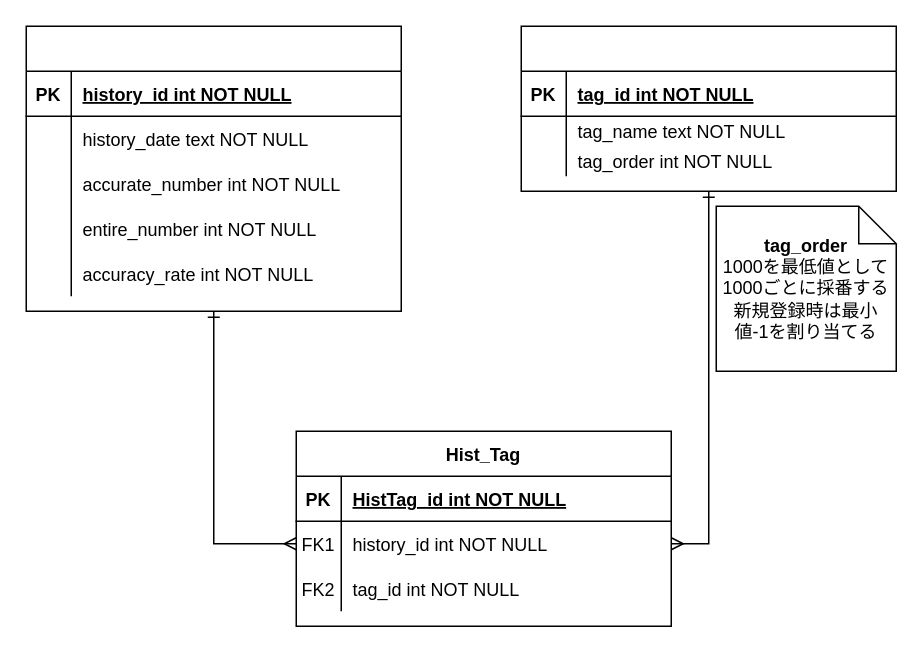
Some shapes in this 923 by 653 pixel diagram are drawn without their labels. The shapes that lost their labels are listed below. From the top down, each one's box as (x1, y1, x2, y2) in pixels, then its label:
(520, 25, 896, 191): Tags
(25, 25, 401, 311): Histories
